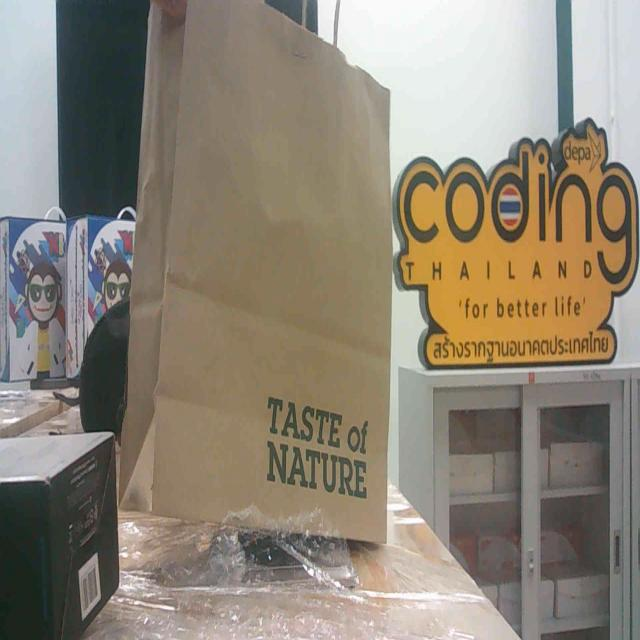bag: (131, 3, 390, 573)
